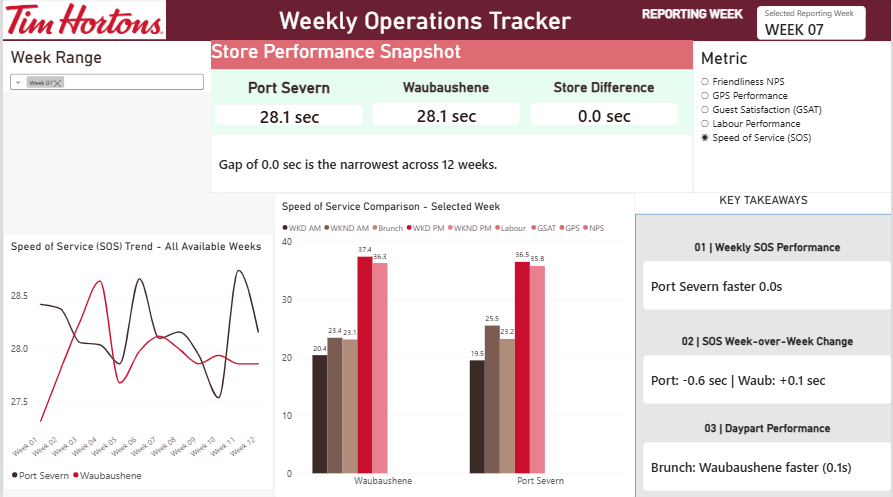

The dashboard page shown, as its layout file describes it:
{"tool":"powerbi","page":{"name":"Page 1","canvas":[1920,1080],"ordinal":0},"visuals":[{"type":"shape","box":[0,0,1920.2,92.9],"z":0},{"type":"image","box":[0,0,352.1,92.9],"z":1000},{"type":"textbox","title":"Weekly Operations Tracker","box":[499,17.3,825.1,75.6],"z":2000},{"type":"textbox","title":"REPORTING WEEK","box":[1276.6,17.3,425.5,56.2],"z":3000},{"type":"listSlicer","title":"Week Range","fields":{"Values":["Weekly_Operations_Data.Week_Label"]},"box":[0,92.9,449.3,110.2],"z":4000},{"type":"listSlicer","fields":{"Values":["Metrics Selector.Metric"]},"box":[1490.4,92.9,429.8,328.3],"z":5000},{"type":"cardVisual","fields":{"Data":["DAX Measures.Selected Reporting Week"]},"box":[1628.6,17.3,235.4,73.4],"z":6000},{"type":"shape","title":"Store Performance Snapshot","box":[449.3,90.7,1041.1,330.5],"z":7000},{"type":"cardVisual","fields":{"Data":["DAX Measures.Store Snapshot Interpretation"]},"box":[449.3,293.8,1041.1,127.4],"z":8000},{"type":"cardVisual","title":"Port Severn","fields":{"Data":["DAX Measures.Port Severn KPI"]},"box":[458,175,320,100],"z":9000},{"type":"cardVisual","title":"Waubaushene","fields":{"Data":["DAX Measures.Waubaushene KPI"]},"box":[798,175,320,100],"z":10000},{"type":"cardVisual","title":"Store Difference","fields":{"Data":["DAX Measures.Store Difference"]},"box":[1138,175,320,100],"z":11000},{"type":"clusteredColumnChart","fields":{"Category":["Weekly_Operations_Data.Store_Name"],"Y":["DAX Measures.WDAM SOS Comparison","DAX Measures.WEAM SOS Comparison","DAX Measures.Brunch SOS Comparison","DAX Measures.WDPM SOS Comparison","DAX Measures.WEPM SOS Comparison","DAX Measures.Labour Performance Comparison","DAX Measures.Guest Satisfaction Comparison","DAX Measures.GPS Performance Comparison","DAX Measures.Friendliness NPS Comparison"]},"box":[585.4,421.2,779.8,658.8],"z":12000},{"type":"lineChart","fields":{"Category":["Trend Week Axis.Week_Label"],"Series":["Weekly_Operations_Data.Store_Name"],"Y":["DAX Measures.Selected Metric Trend Value"]},"box":[0,507.6,585.4,557.3],"z":13000},{"type":"shape","title":" KEY TAKEAWAYS","box":[1365.1,421.2,555.1,658.8],"z":14000},{"type":"cardVisual","fields":{"Data":["DAX Measures.Store Performance Interpretation"]},"box":[1382.4,524.9,537.8,149],"z":15000},{"type":"cardVisual","fields":{"Data":["DAX Measures.Week-over-Week Insight"]},"box":[1382.4,727.9,537.8,149],"z":16000},{"type":"cardVisual","fields":{"Data":["DAX Measures.Performance Trend Insight Display"]},"box":[1382.4,915.8,537.8,149],"z":17000}]}

Visuals, with their boxes in screenshot pixels (x1, y1, x2, y2), scaled from the page's 1920x1080 canvas onto the 893x497 screenshot:
shape: BBox(0, 0, 892, 43)
image: BBox(0, 0, 164, 43)
"Weekly Operations Tracker" textbox: BBox(232, 8, 616, 43)
"REPORTING WEEK" textbox: BBox(594, 8, 792, 34)
"Week Range" listSlicer: BBox(0, 43, 209, 93)
listSlicer - Metrics Selector.Metric: BBox(693, 43, 892, 194)
cardVisual - DAX Measures.Selected Reporting Week: BBox(757, 8, 867, 42)
"Store Performance Snapshot" shape: BBox(209, 42, 693, 194)
cardVisual - DAX Measures.Store Snapshot Interpretation: BBox(209, 135, 693, 194)
"Port Severn" cardVisual: BBox(213, 81, 362, 127)
"Waubaushene" cardVisual: BBox(371, 81, 520, 127)
"Store Difference" cardVisual: BBox(529, 81, 678, 127)
clusteredColumnChart - Weekly_Operations_Data.Store_Name x DAX Measures.WDAM SOS Comparison: BBox(272, 194, 635, 496)
lineChart - Trend Week Axis.Week_Label x Weekly_Operations_Data.Store_Name: BBox(0, 234, 272, 490)
" KEY TAKEAWAYS" shape: BBox(635, 194, 892, 496)
cardVisual - DAX Measures.Store Performance Interpretation: BBox(643, 242, 892, 310)
cardVisual - DAX Measures.Week-over-Week Insight: BBox(643, 335, 892, 404)
cardVisual - DAX Measures.Performance Trend Insight Display: BBox(643, 421, 892, 490)
